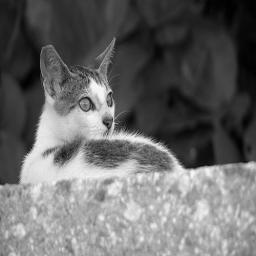catnose: (102, 116, 114, 130)
